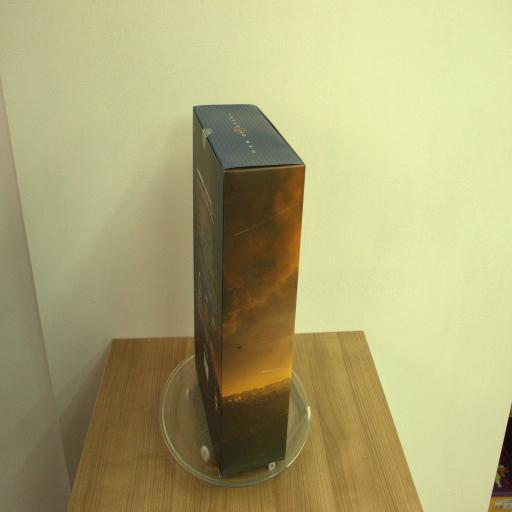superman: (192, 104, 300, 478)
